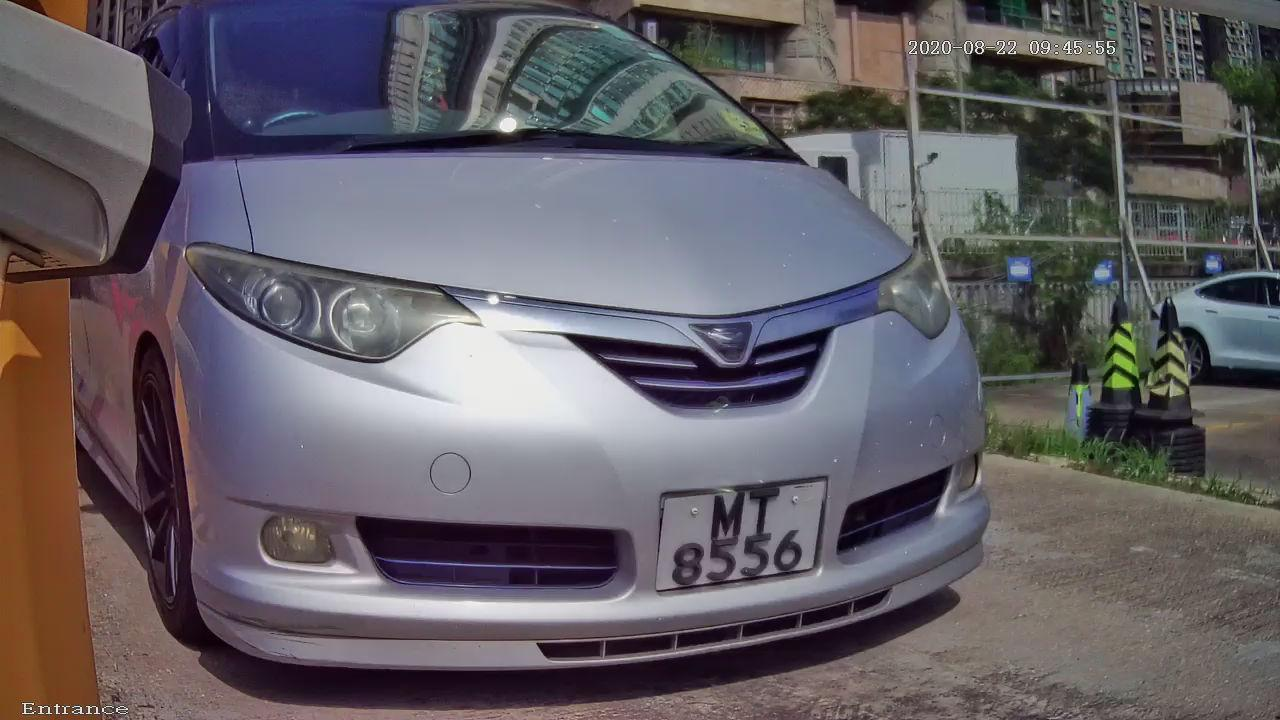Car: (58, 1, 1069, 720)
License Plate: (635, 463, 858, 614)
